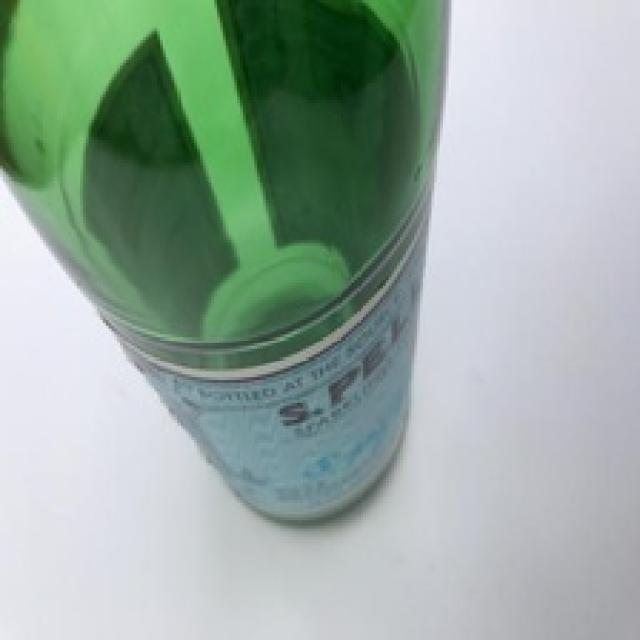Glass: (0, 0, 452, 529)
